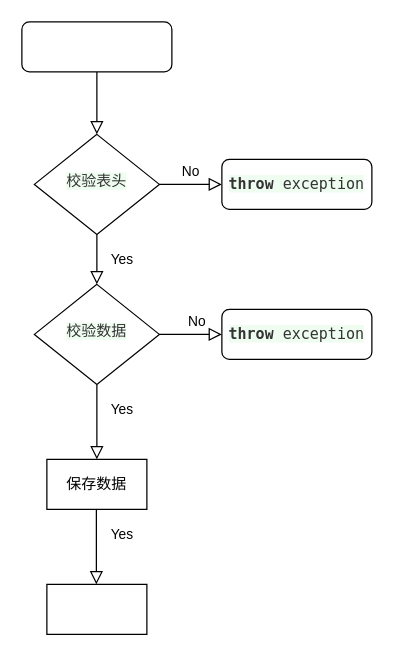
Some shapes in this 394 by 656 pixel diagram are drawn without their labels. Each missing label, with the centre of its shape:
文件上传: the point at 96,46
重设缓存: the point at 96,608
